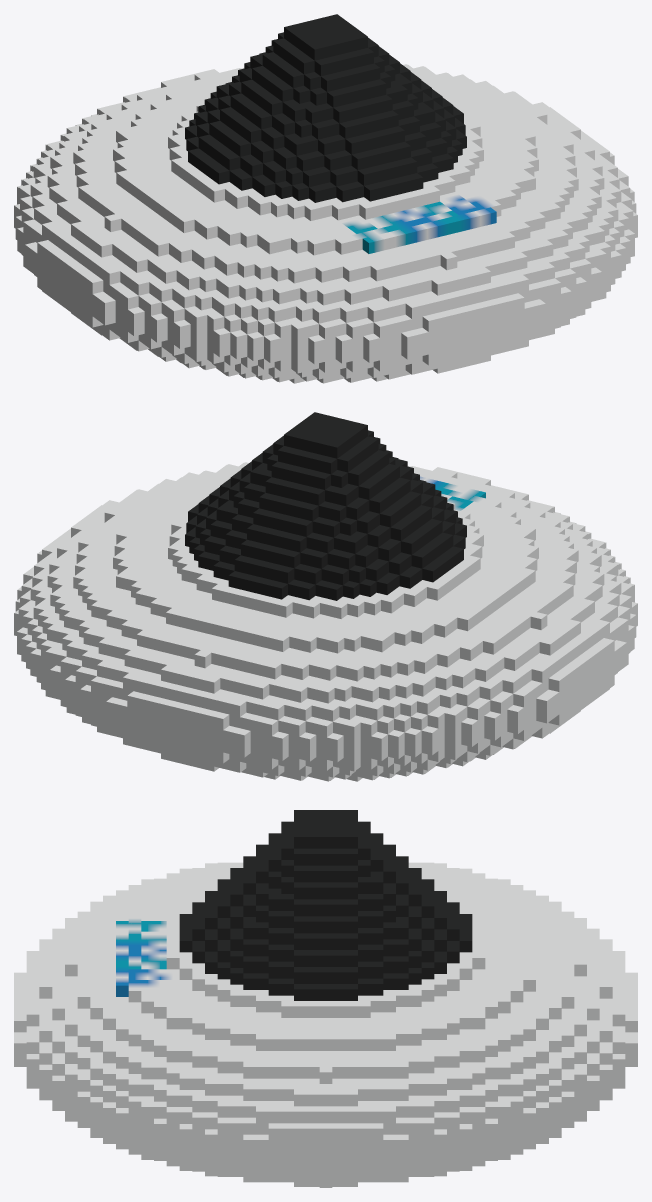
File: Nasa.dae
The picture shows the model from 3 angles, top to bottom: view 1: azimuth 30°, elevation 25°; view 2: azimuth 150°, elevation 25°; view 3: azimuth 270°, elevation 25°; orthographic projection. The views are drawn at different scales.
Parts seen in each view (by area): view 1: NasaVaiseauSpacial; view 2: NasaVaiseauSpacial; view 3: NasaVaiseauSpacial.
Part boxes in pixels (<box>): NasaVaiseauSpacial: <box>14,14,637,383</box>; NasaVaiseauSpacial: <box>14,412,637,781</box>; NasaVaiseauSpacial: <box>14,810,637,1187</box>.
Size of the model in its own units: 49 by 24 by 49.
1 material, 1 textured.
